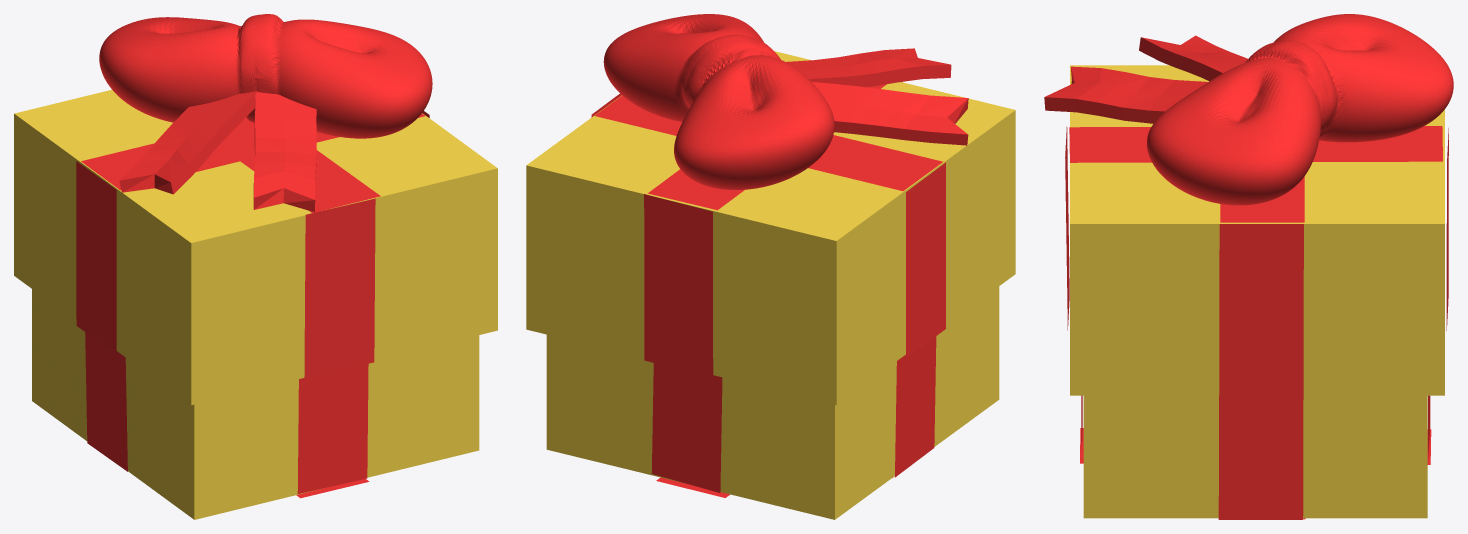
File: decoration_7_1.glb
3 views of the same model, side by side, from view 1: azimuth 30°, elevation 25°; view 2: azimuth 150°, elevation 25°; view 3: azimuth 270°, elevation 25° (orthographic). The views are drawn at different scales.
Parts seen in each view (by area): view 1: Box, Box 1, Sphere 3, Sphere 2, Sphere 4, Plane 1, Plane 11, Plane 6, Plane 10, Plane 5, Plane 12; view 2: Box, Box 1, Sphere 4, Plane, Sphere 2, Sphere 3, Plane 9, Plane 6, Plane 5, Plane 10, Plane 12; view 3: Box, Box 1, Sphere 3, Plane 7, Sphere 4, Plane 8, Sphere 2, Plane 12, Plane 5, Plane 1.
Boxes of the visible parts, box(x1,y1,x2,y2) form: Box: box(14, 89, 497, 405); Box 1: box(32, 289, 479, 519); Sphere 3: box(252, 14, 432, 138); Sphere 2: box(119, 91, 316, 212); Sphere 4: box(99, 14, 260, 122); Plane 1: box(304, 198, 375, 378); Plane 11: box(297, 363, 368, 493); Plane 6: box(76, 161, 116, 354); Plane 10: box(85, 332, 127, 471); Plane 5: box(81, 113, 425, 190); Plane 12: box(240, 117, 380, 212); Box: box(526, 51, 1015, 405); Box 1: box(546, 286, 999, 519); Sphere 4: box(674, 38, 834, 189); Plane: box(644, 194, 713, 377); Sphere 2: box(786, 48, 968, 145); Sphere 3: box(603, 14, 767, 121); Plane 9: box(651, 363, 722, 492); Plane 6: box(906, 162, 945, 358); Plane 5: box(595, 95, 942, 190); Plane 10: box(895, 336, 936, 477); Plane 12: box(648, 84, 886, 210); Box: box(1070, 65, 1444, 395); Box 1: box(1083, 395, 1427, 518); Sphere 3: box(1147, 41, 1334, 205); Plane 7: box(1219, 224, 1303, 399); Sphere 4: box(1265, 14, 1453, 142); Plane 8: box(1218, 396, 1303, 519); Sphere 2: box(1044, 35, 1247, 123); Plane 12: box(1069, 126, 1442, 162); Plane 5: box(1220, 176, 1304, 222); Plane 1: box(1065, 126, 1069, 330).
Size of the model in its own units: 0.2836 by 0.3255 by 0.2912.
